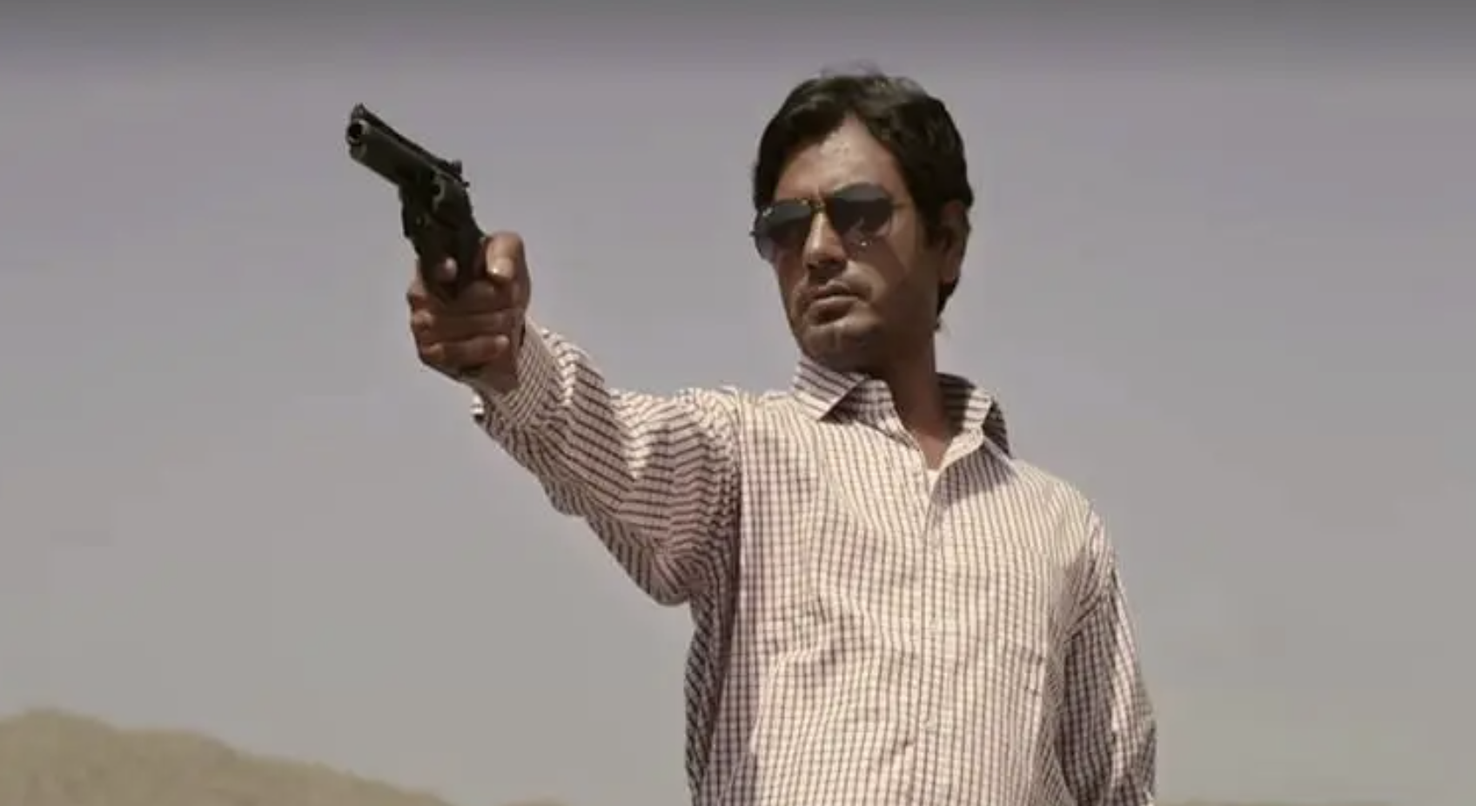gun_020: (319, 95, 538, 389)
